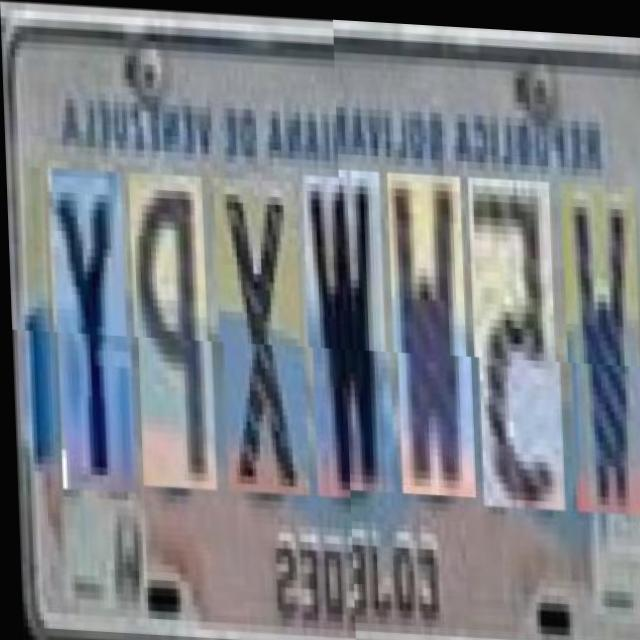5: (468, 178, 558, 512)
p: (126, 170, 210, 487)
w: (301, 172, 388, 496), (385, 176, 469, 500), (559, 183, 640, 516)
x: (212, 174, 302, 492)
y: (45, 167, 129, 491)
